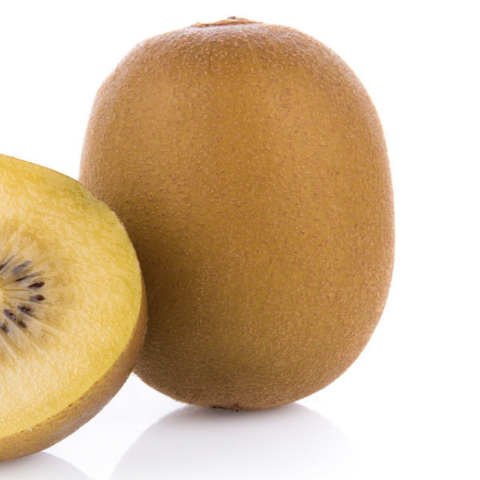kiwi: (26, 1, 455, 456)
